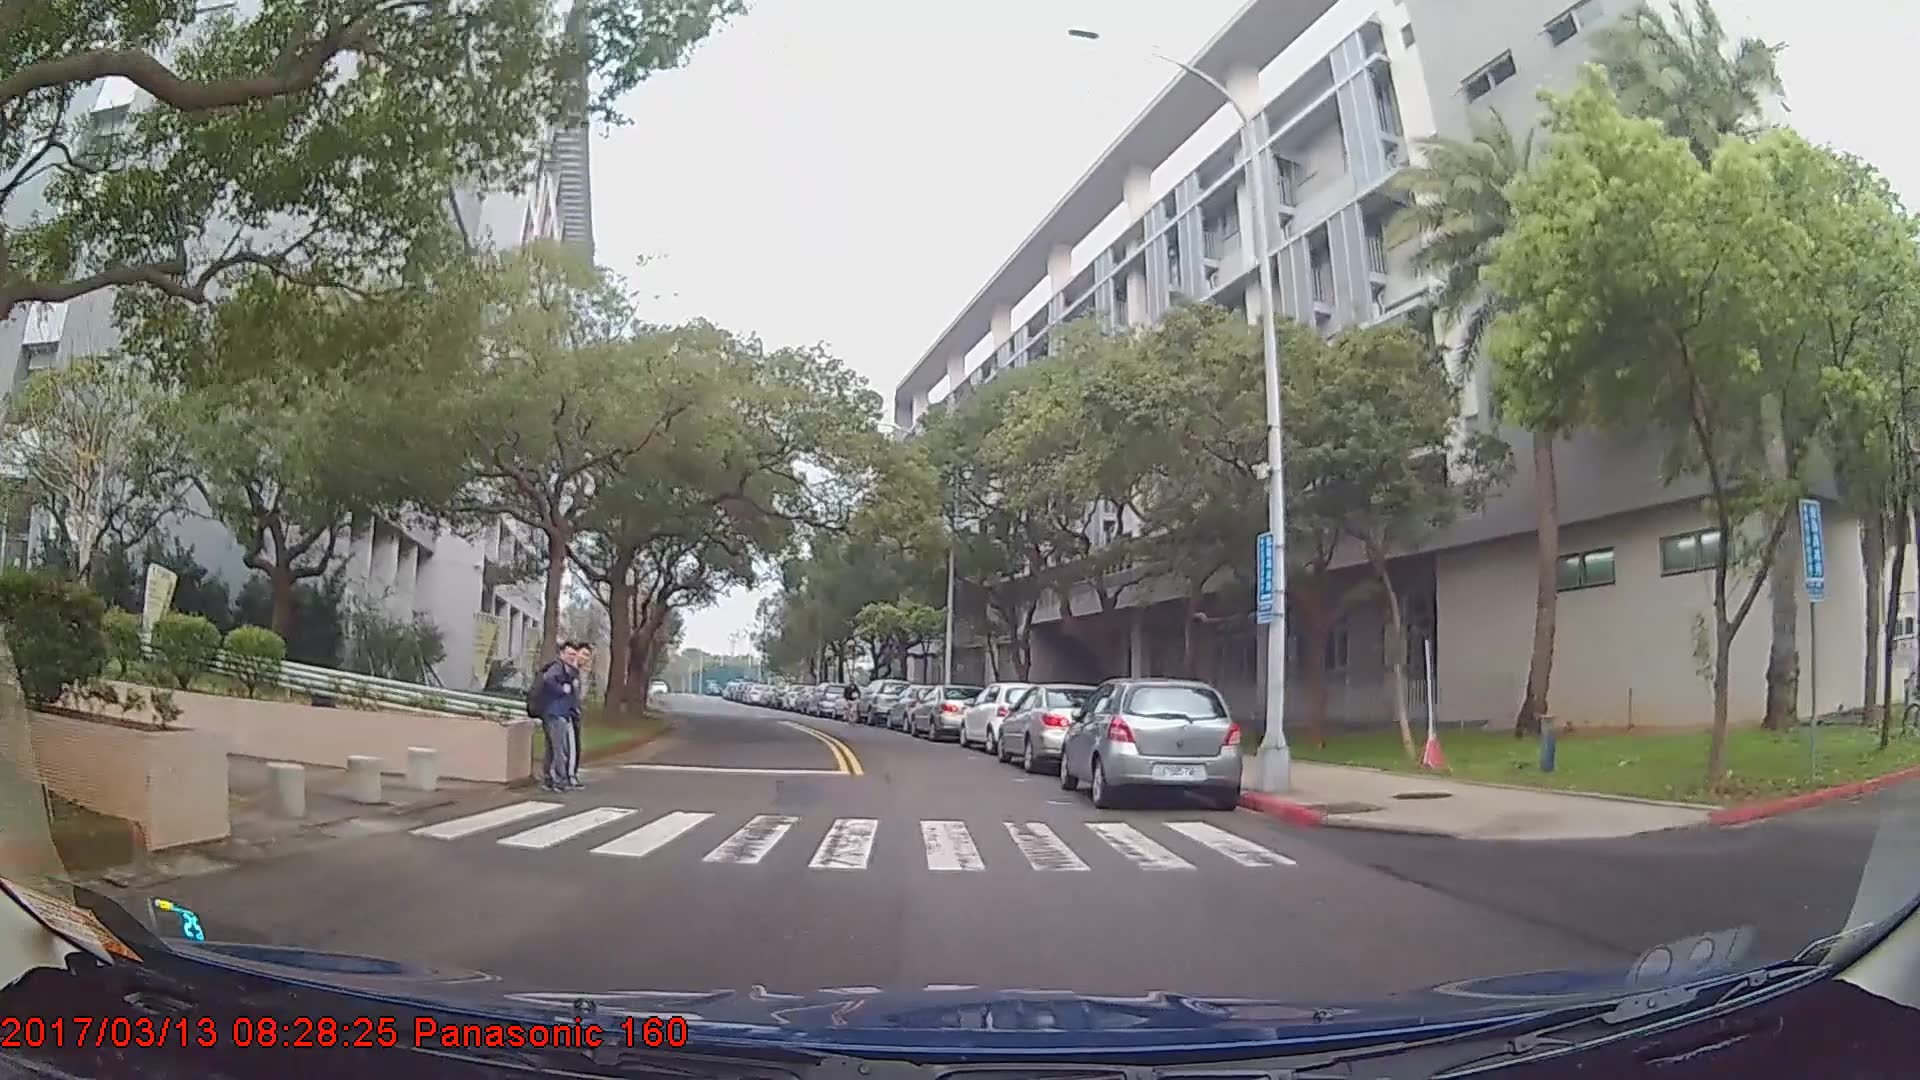pedestrian: (526, 637, 588, 800), (844, 678, 864, 729)
vehicle: (1060, 677, 1244, 811), (994, 682, 1114, 774), (959, 682, 1055, 756), (906, 681, 990, 741), (854, 677, 912, 723), (809, 681, 847, 718)
